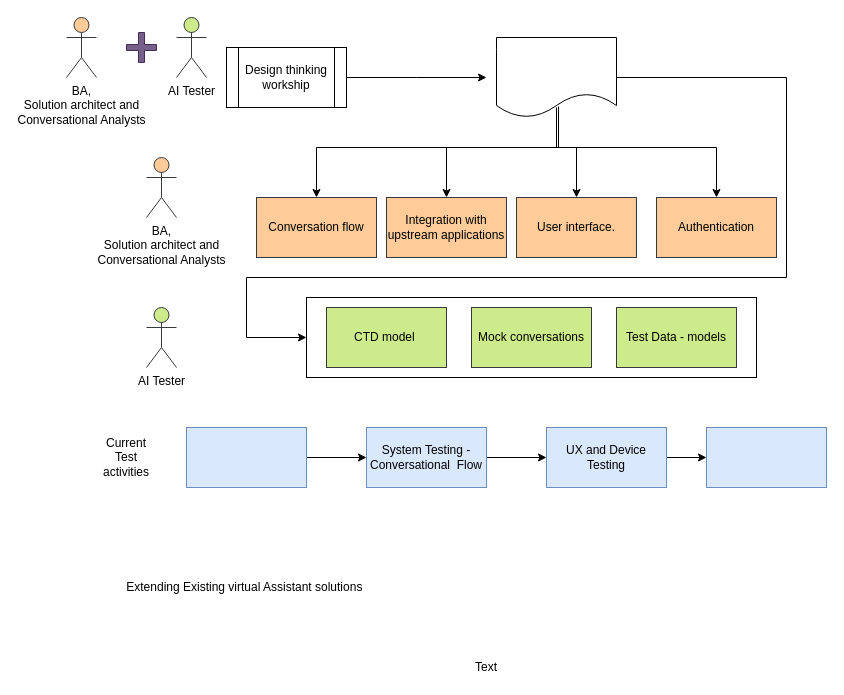
Some shapes in this 844 by 695 pixel diagram are drawn without their labels. Each missing label, with the centre of its shape:
Intents, Utterences: the point at 556,77
Performance testing - Load and performance (response time): the point at 766,457
Unit testing: the point at 246,457
